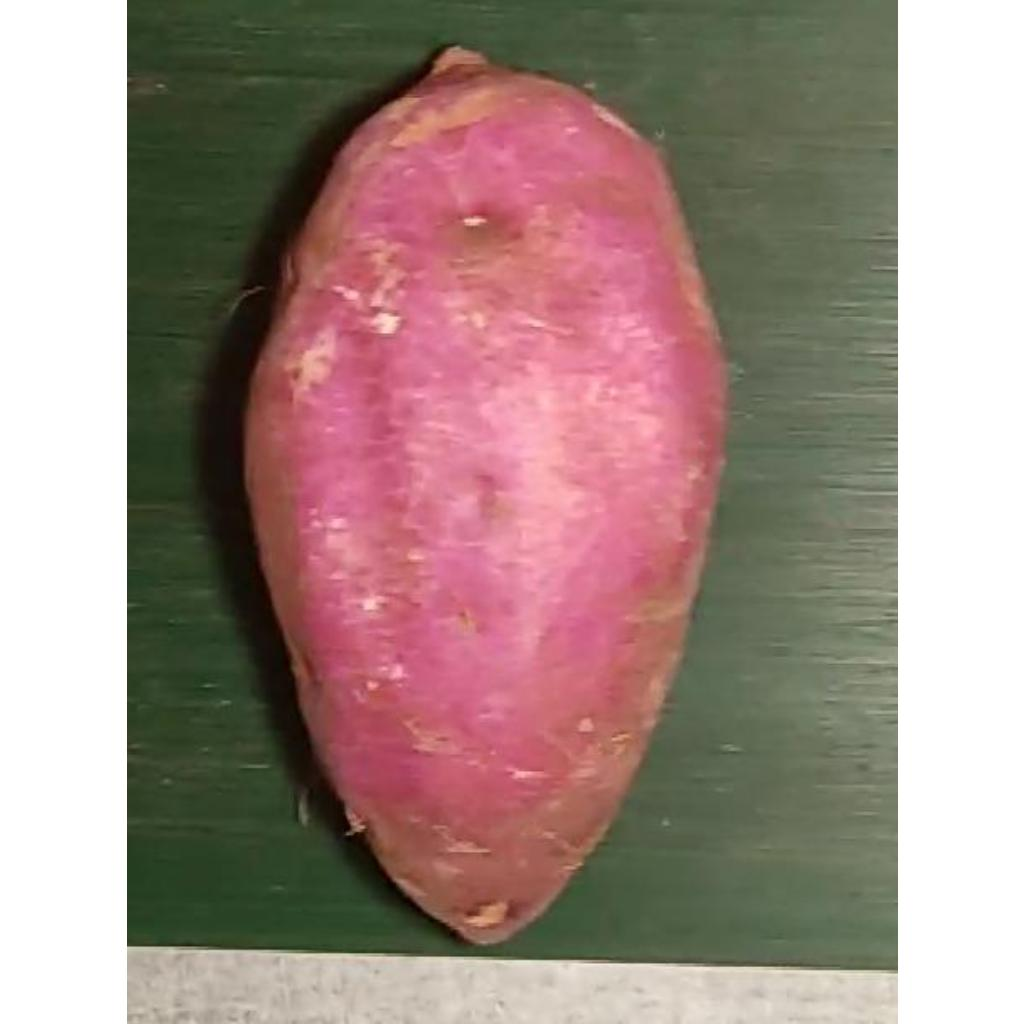Sweet Potato: (241, 45, 729, 948)
